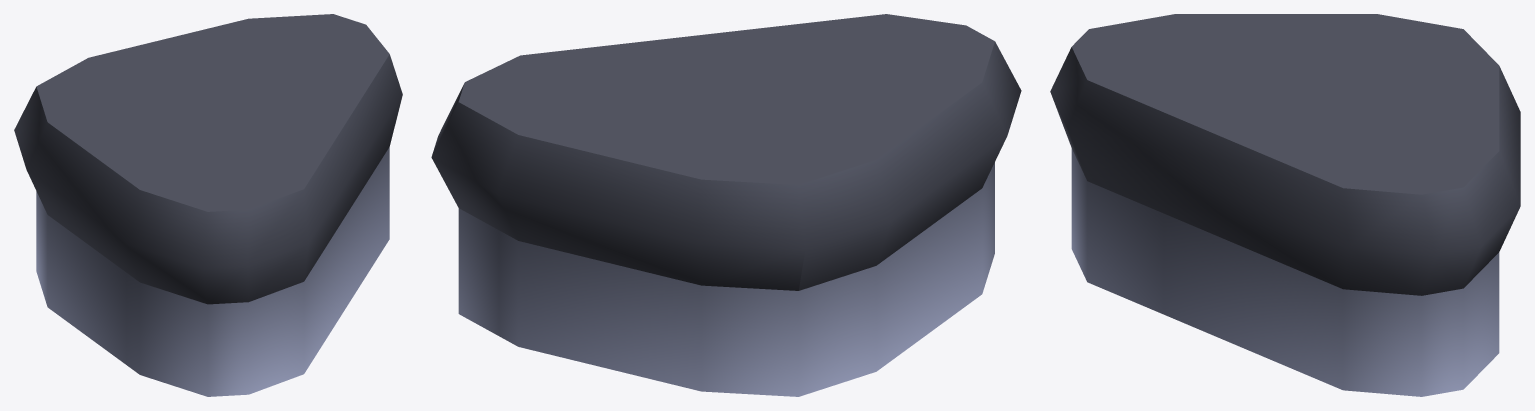
File: block-snow-corner-low.glb
The picture shows the model from 3 angles, left to right: view 1: azimuth 30°, elevation 25°; view 2: azimuth 150°, elevation 25°; view 3: azimuth 270°, elevation 25°; orthographic projection. The views are drawn at different scales.
Visible parts, largest first — view 1: block-snow-corner-low; view 2: block-snow-corner-low; view 3: block-snow-corner-low.
Boxes of the visible parts, box(x1,y1,x2,y2) form: block-snow-corner-low: box(14, 14, 402, 396); block-snow-corner-low: box(431, 14, 1021, 396); block-snow-corner-low: box(1050, 14, 1520, 396).
Size of the model in its own units: 1.05 by 0.5 by 1.05.
